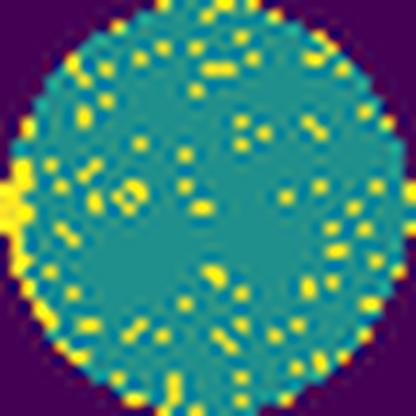Edge-Loc: (0, 145, 59, 330)
